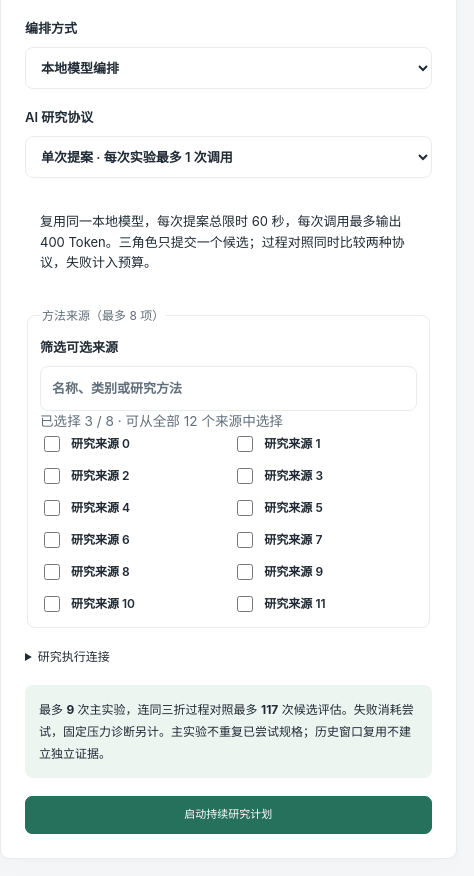
offers all catalogue sources while enforcing eight selections
Earlier steps of the test are not shown.
(page scrolled)
Expected: the checkbox labelled "研究来源 11" is shown, [237,596,253,612]
Click the checkbox labelled "研究来源 0". click: (52,444)
box: [44,436,60,452]
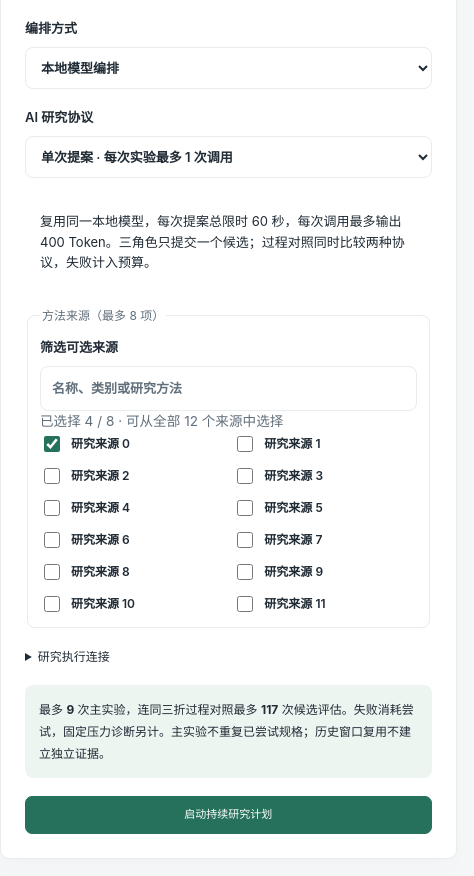
Click the checkbox labelled "研究来源 1". click: (245,444)
box: [237,436,253,452]
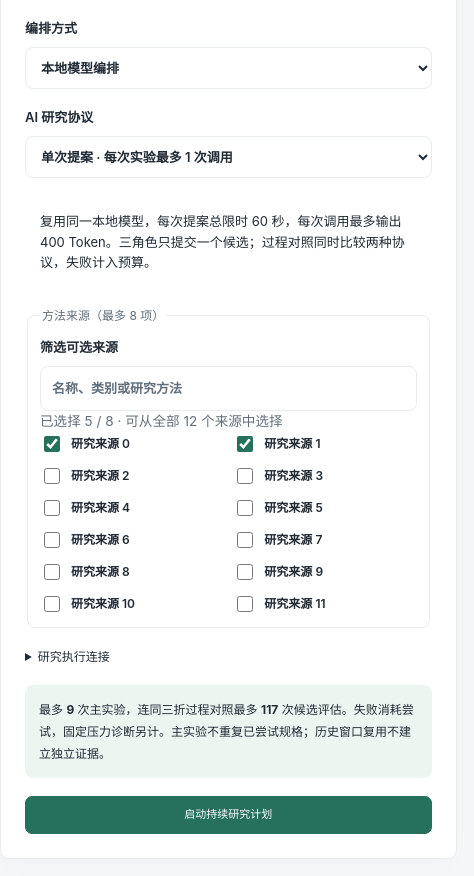
Click the checkbox labelled "研究来源 2". click: (52,476)
box: [44,468,60,484]
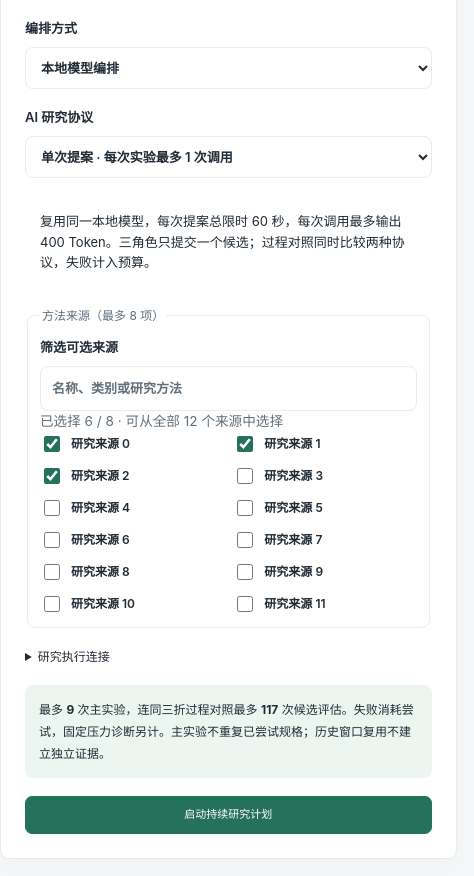
Click the checkbox labelled "研究来源 3". click: (245,476)
box: [237,468,253,484]
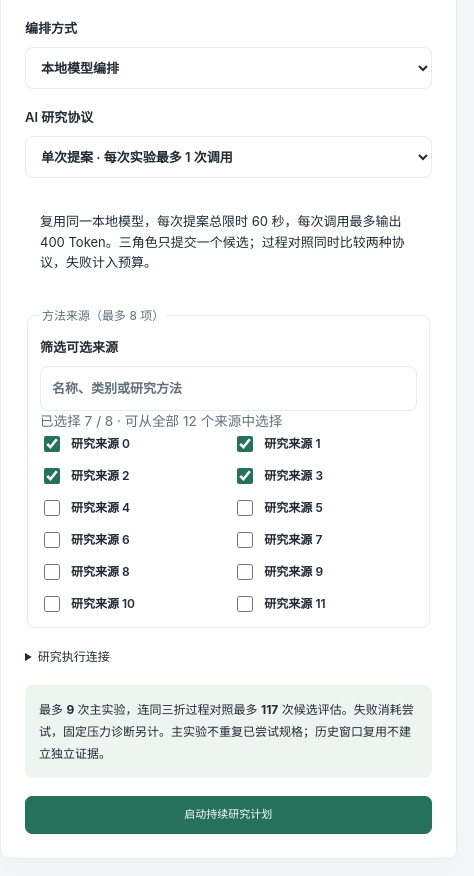
Click the checkbox labelled "研究来源 4". click: (52,508)
box: [44,500,60,516]
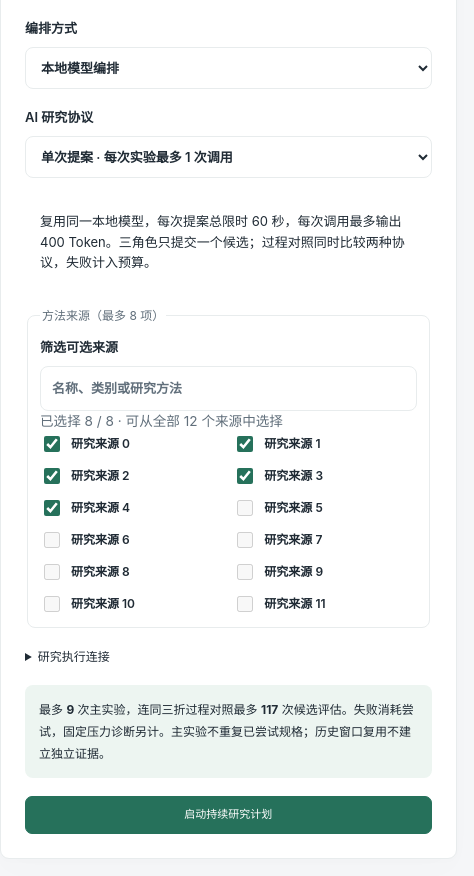
Result: the checkbox labelled "研究来源 11" is disabled at [237,596,253,612]
Click the checkbox labelled "研究来源 0". click: (52,444)
box: [44,436,60,452]
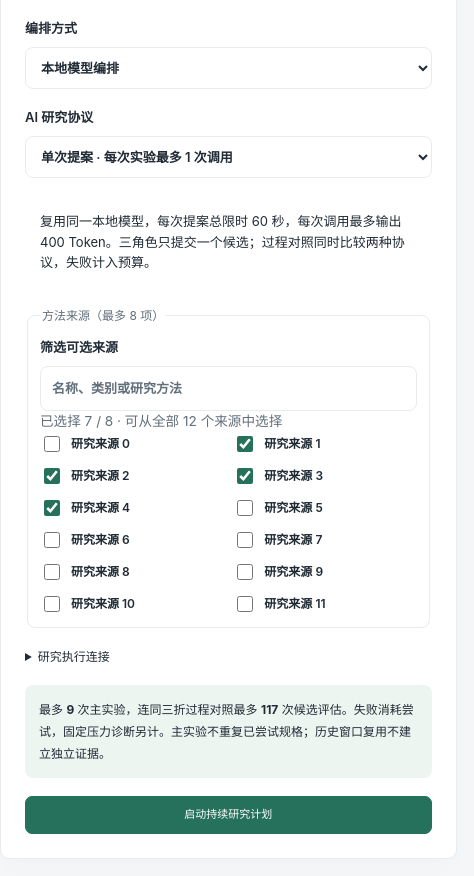
Result: the checkbox labelled "研究来源 11" is enabled at [237,596,253,612]
